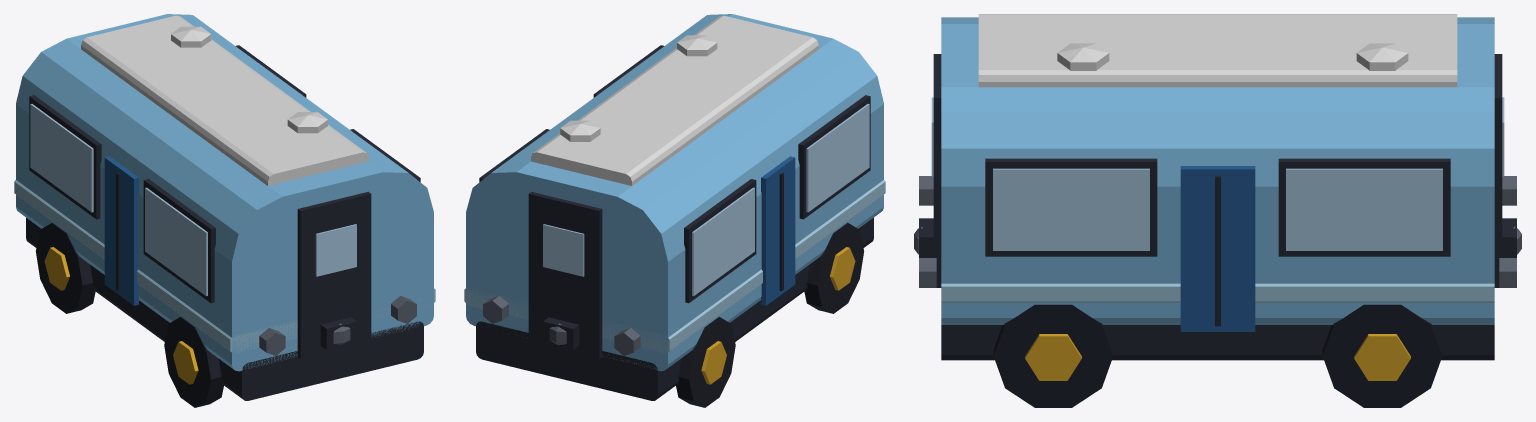
The model's file is train_car_ice.glb.
3 renders of one model, left to right at view 1: azimuth 30°, elevation 25°; view 2: azimuth 150°, elevation 25°; view 3: azimuth 270°, elevation 25°, orthographic. The views are drawn at different scales.
Parts seen in each view (by area): view 1: train_car_ice; view 2: train_car_ice; view 3: train_car_ice.
Boxes of the visible parts, x1,y1,x2,y2 form: train_car_ice: [14, 14, 435, 407]; train_car_ice: [464, 14, 885, 407]; train_car_ice: [914, 14, 1521, 407].
Size of the model in its own units: 2.13 by 2.33 by 4.06.
